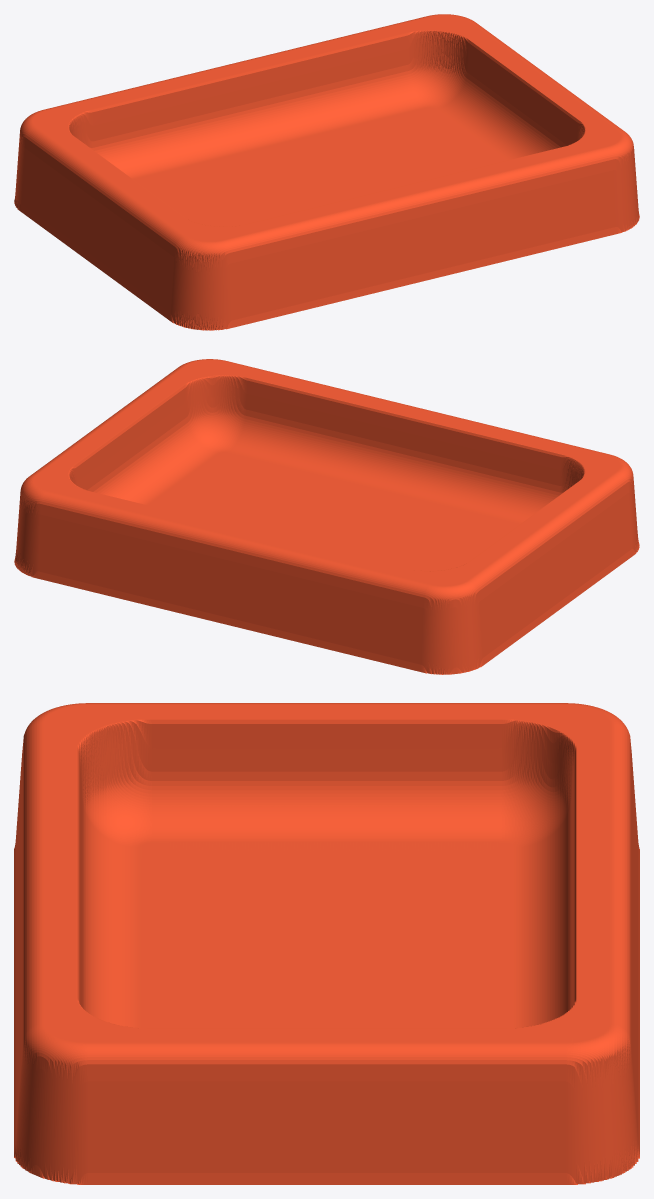
Rendered from mold.glb.
3 views of the same model, one above another, from view 1: azimuth 30°, elevation 25°; view 2: azimuth 150°, elevation 25°; view 3: azimuth 270°, elevation 25° (orthographic). The views are drawn at different scales.
Visible parts, largest first — view 1: geometry_0; view 2: geometry_0; view 3: geometry_0.
Boxes of the visible parts, x1,y1,x2,y2 form: geometry_0: [14, 14, 639, 330]; geometry_0: [14, 359, 639, 674]; geometry_0: [14, 703, 639, 1184].
Bounding box in the file's own units: 0.105 × 0.0175 × 0.0766.
